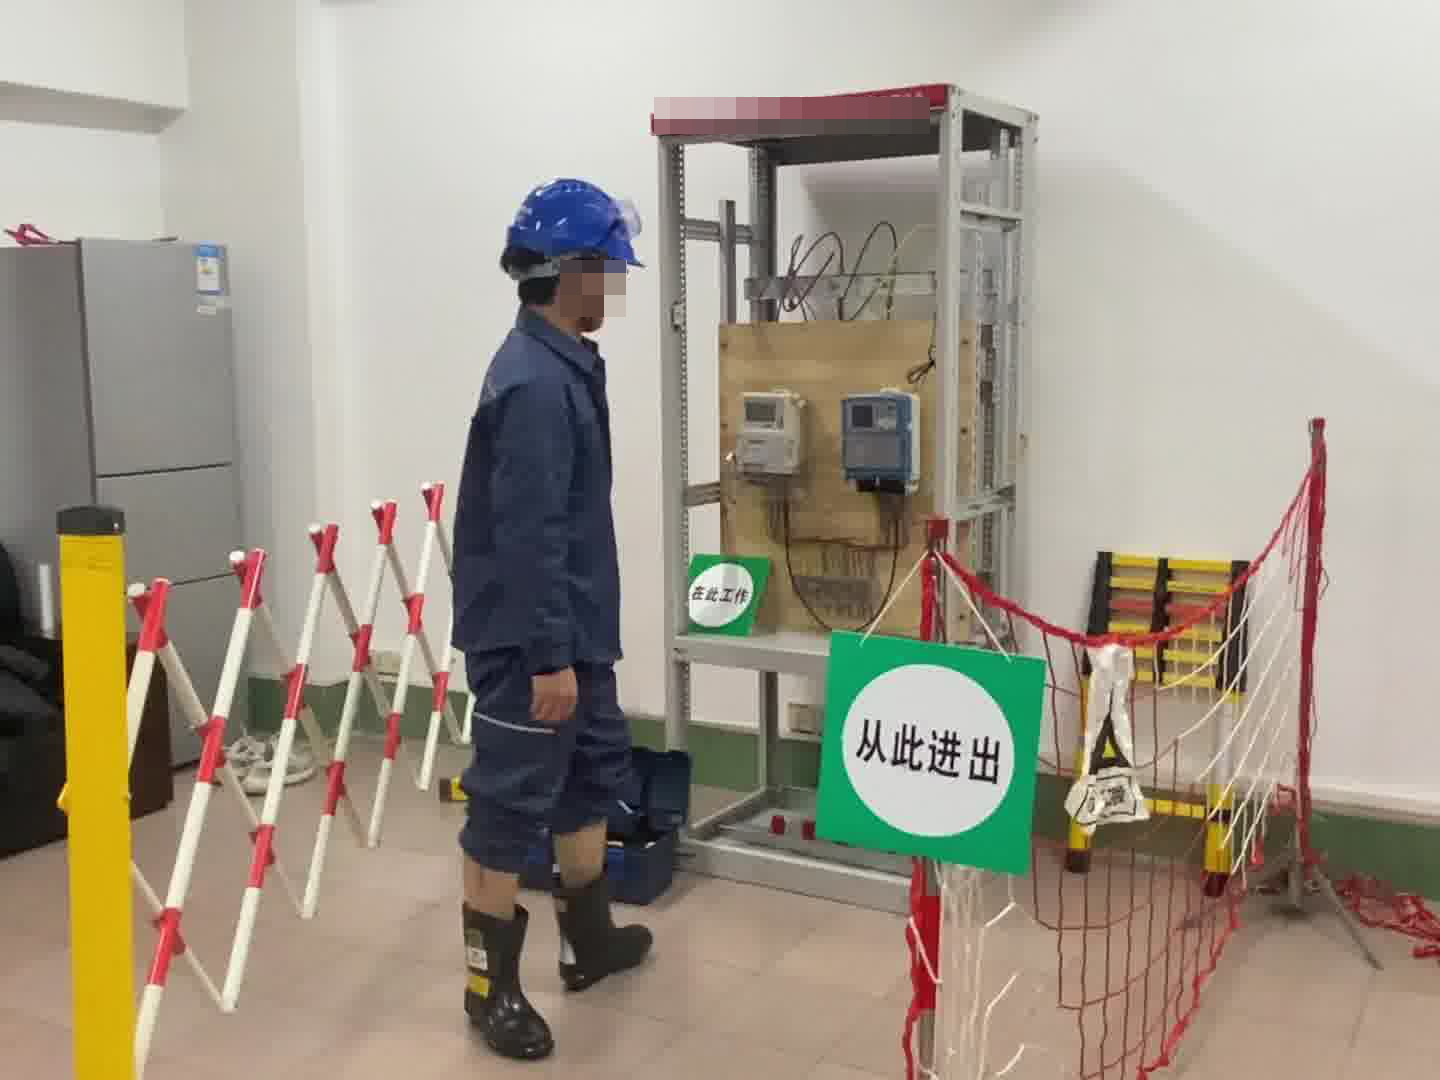downsuit: (458, 659, 642, 883)
halt: (502, 177, 645, 333)
hand: (527, 666, 579, 727)
inear: (565, 254, 606, 314)
intosign: (813, 625, 1050, 892)
person: (429, 171, 654, 1060)
shoe: (452, 902, 563, 1057), (552, 882, 655, 993)
upsuit: (454, 337, 622, 653)
worksign: (685, 553, 768, 638)
wrongbottom: (452, 818, 628, 925)
